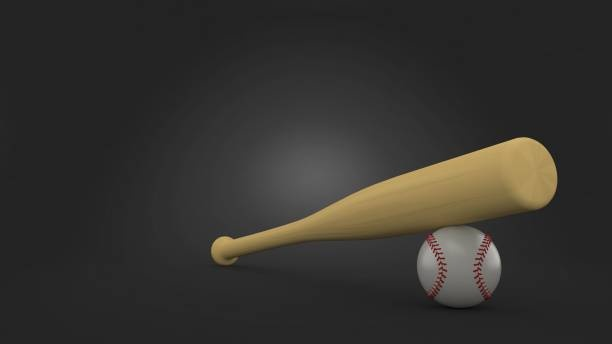bita: (208, 139, 557, 266)
